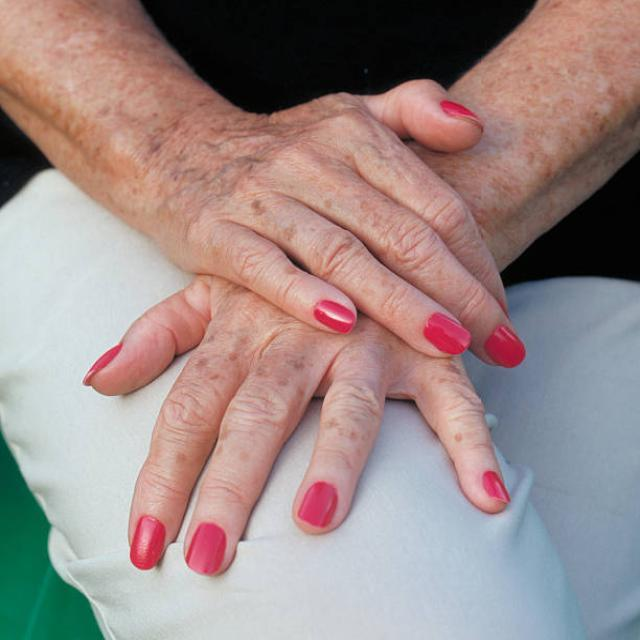dry: (68, 60, 358, 260)
